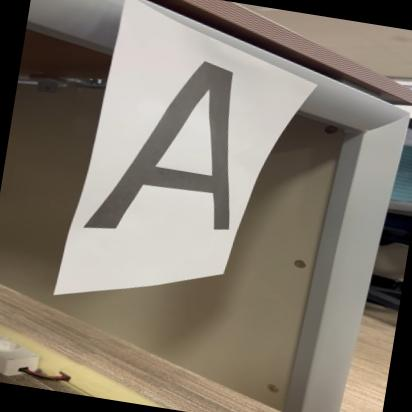seat: (72, 31, 266, 267)
